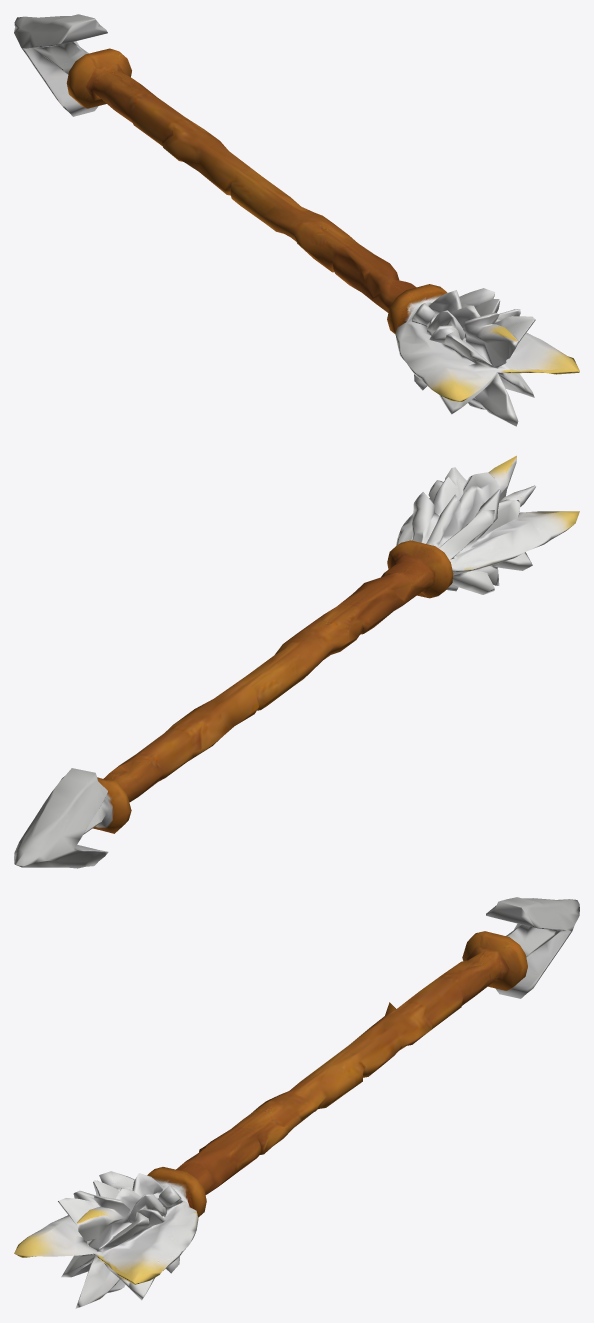
File: arrow.glb
3 views of the same model, one above another, from view 1: azimuth 30°, elevation 25°; view 2: azimuth 150°, elevation 25°; view 3: azimuth 330°, elevation 25° (orthographic).
Parts seen in each view (by area): view 1: tripo_node_364f1afa-43c2-4012-a933-83382fe0855b; view 2: tripo_node_364f1afa-43c2-4012-a933-83382fe0855b; view 3: tripo_node_364f1afa-43c2-4012-a933-83382fe0855b.
Part boxes in pixels (x1,y1,x2,y2): tripo_node_364f1afa-43c2-4012-a933-83382fe0855b: (14, 14, 579, 426); tripo_node_364f1afa-43c2-4012-a933-83382fe0855b: (14, 455, 579, 868); tripo_node_364f1afa-43c2-4012-a933-83382fe0855b: (14, 897, 579, 1308).
Bounding box in the file's own units: 0.158 × 0.1074 × 1.
1 material, 1 textured.
